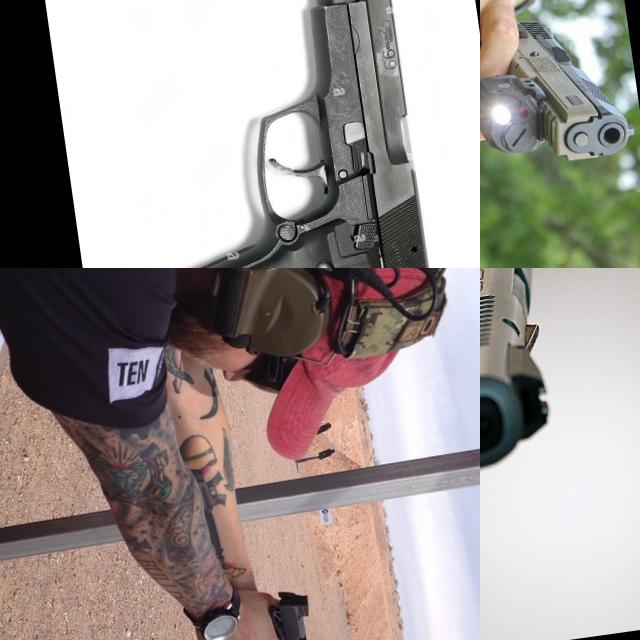handgun: (113, 0, 455, 268), (480, 268, 617, 498), (480, 0, 640, 181), (249, 583, 329, 640)
